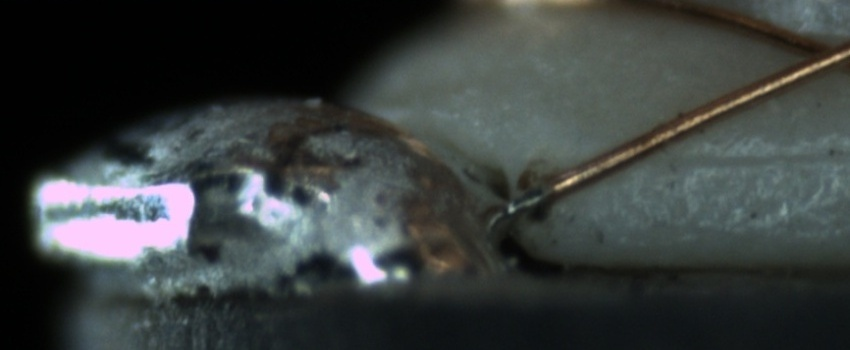CL: (773, 27, 848, 84)
DL: (631, 121, 849, 190)
TS: (506, 180, 548, 218)
